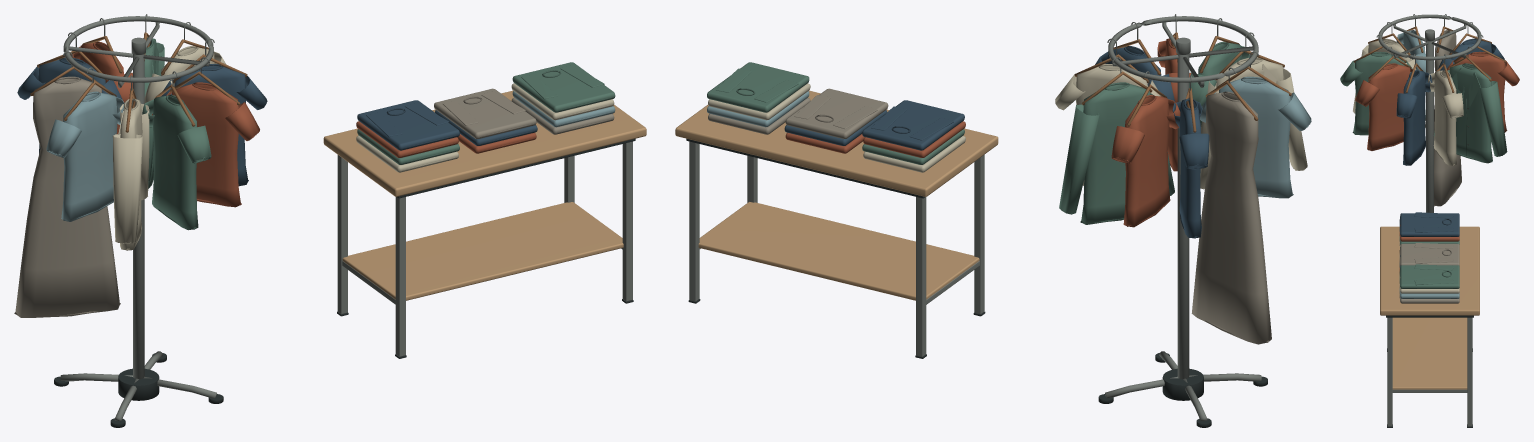
The picture shows the model from 3 angles, left to right: view 1: azimuth 30°, elevation 25°; view 2: azimuth 150°, elevation 25°; view 3: azimuth 270°, elevation 25°; orthographic projection. The views are drawn at different scales.
Visible parts, largest first — view 1: BATCH_Cotton, BATCH_MatteSurface, BATCH_BrushedMetal; view 2: BATCH_Cotton, BATCH_MatteSurface, BATCH_BrushedMetal; view 3: BATCH_Cotton, BATCH_MatteSurface, BATCH_BrushedMetal.
Part boxes in pixels (x1,y1,x2,y2): BATCH_Cotton: (14,37,615,317); BATCH_MatteSurface: (30,32,646,427); BATCH_BrushedMetal: (60,14,632,420); BATCH_Cotton: (707,37,1311,344); BATCH_MatteSurface: (675,32,1291,427); BATCH_BrushedMetal: (689,14,1261,421); BATCH_Cotton: (1340,30,1519,303); BATCH_MatteSurface: (1353,26,1506,427); BATCH_BrushedMetal: (1376,14,1483,426).
Bounding box in the file's own units: 2.77 × 1.6 × 1.08.
